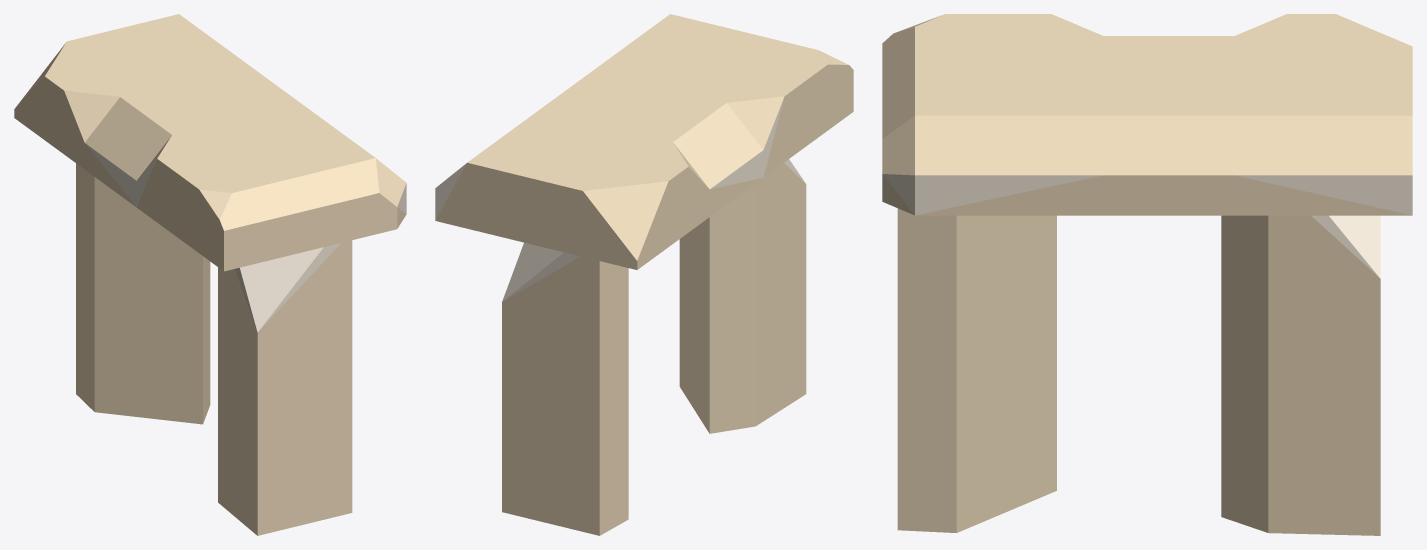
Rendered from desert_rock_13.fbx.
3 views of the same model, side by side, from view 1: azimuth 30°, elevation 25°; view 2: azimuth 150°, elevation 25°; view 3: azimuth 270°, elevation 25° (orthographic). The views are drawn at different scales.
Parts seen in each view (by area): view 1: desert_rock_13; view 2: desert_rock_13; view 3: desert_rock_13.
Part boxes in pixels (box(x1,y1,x2,y2)): desert_rock_13: box(14, 14, 406, 535); desert_rock_13: box(435, 14, 853, 535); desert_rock_13: box(882, 14, 1412, 535).
Bounding box in the file's own units: 110 × 184 × 204.
